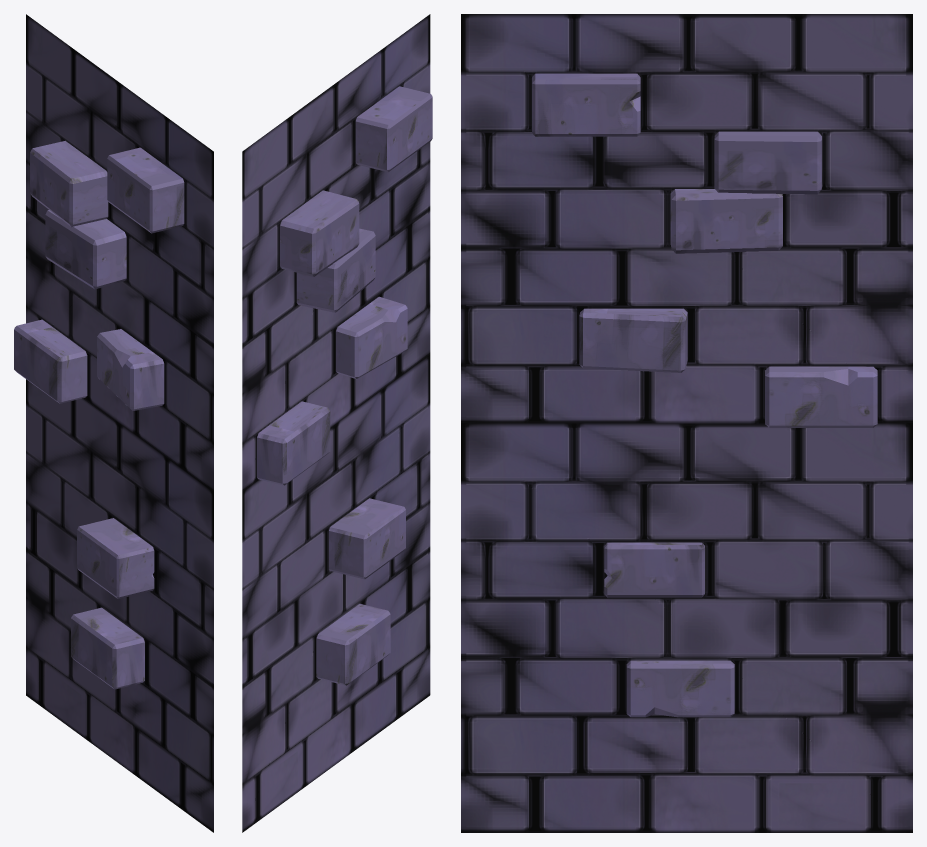
Rendered from Wall_01.fbx.
The picture shows the model from 3 angles, left to right: view 1: azimuth 30°, elevation 25°; view 2: azimuth 150°, elevation 25°; view 3: azimuth 270°, elevation 25°; orthographic projection. The views are drawn at different scales.
Visible parts, largest first — view 1: Wall_01; view 2: Wall_01; view 3: Wall_01.
Part boxes in pixels (x1=…): Wall_01: x1=14, y1=14, x2=213, y2=832; Wall_01: x1=242, y1=14, x2=432, y2=832; Wall_01: x1=461, y1=14, x2=912, y2=832.
Size of the model in its own units: 33.79 by 400 by 200.
